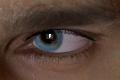eye: (35, 30, 63, 50)
